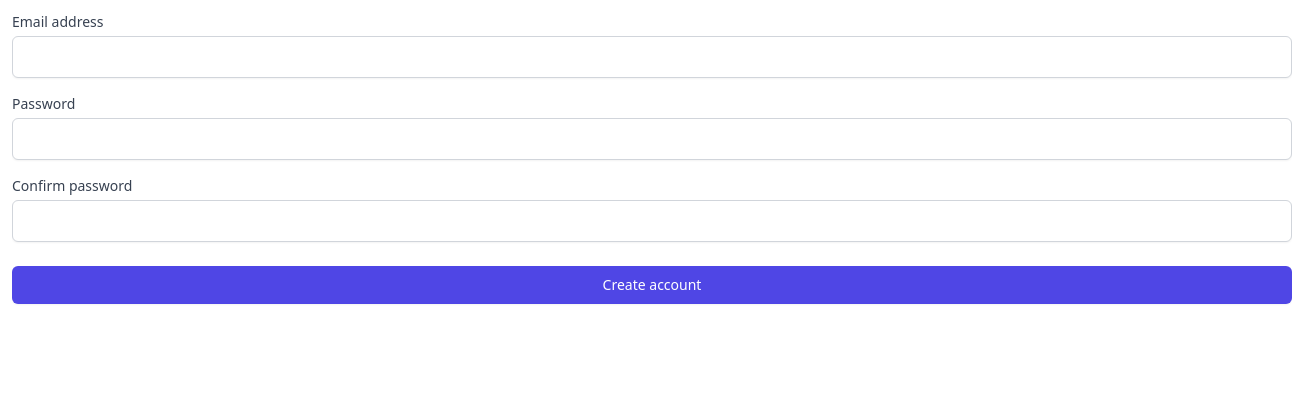
Scenario: RegisterForm › validation › shows email error for invalid email format
The width and height of the screenshot is (1304, 393).
Type "not-an-email" into the field labelled "Email address". click: (652, 57)
box: [12,36,1292,78]
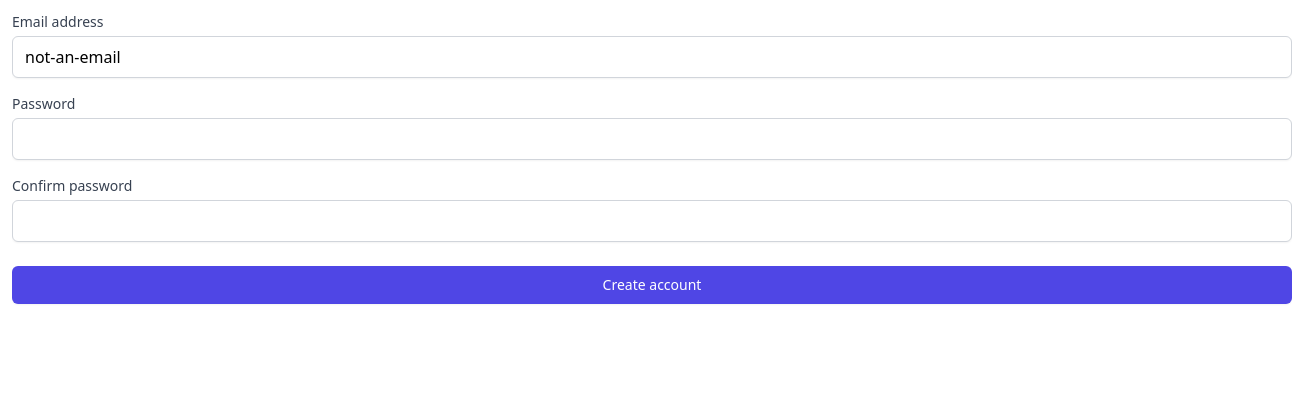
Click the button "Create account". click: click(652, 285)
box: [12,266,1292,304]
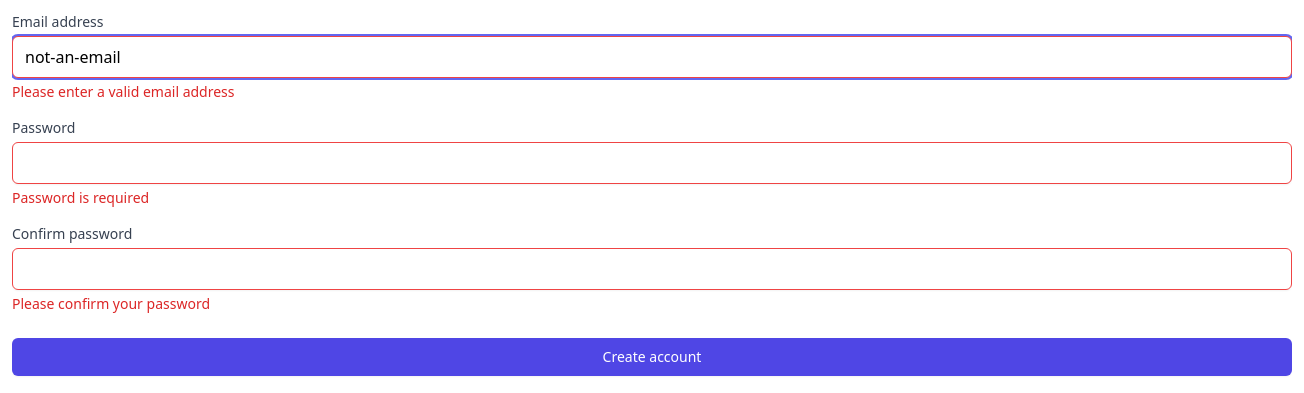
Check: the text "Please enter a valid email address" is shown, box [12,82,234,101]
